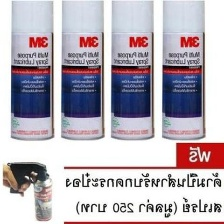aerosol_cans: (107, 0, 158, 145), (158, 0, 208, 143), (59, 0, 108, 143), (7, 0, 55, 144), (31, 168, 56, 223)
